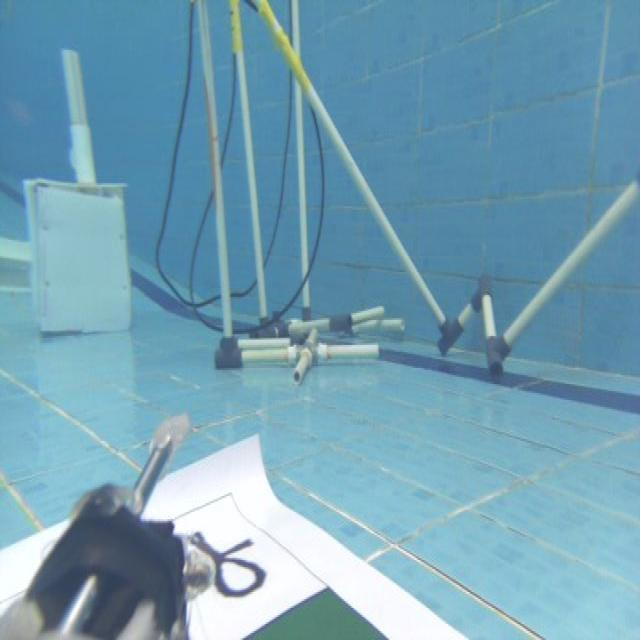Cube: (23, 174, 133, 336)
